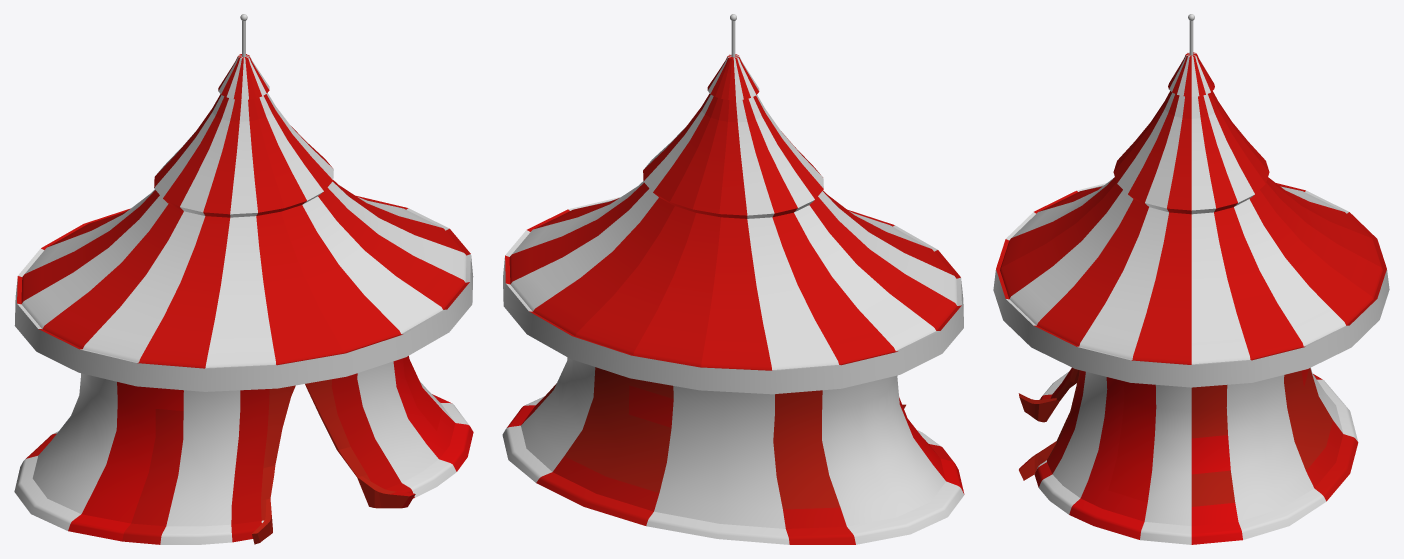
Rendered from mid02tent_lowpoly.fbx.
3 views of the same model, side by side, from view 1: azimuth 30°, elevation 25°; view 2: azimuth 150°, elevation 25°; view 3: azimuth 270°, elevation 25° (orthographic). The views are drawn at different scales.
Visible parts, largest first — view 1: pasted__tent_top3, tent_base8; view 2: pasted__tent_top3, tent_base8; view 3: pasted__tent_top3, tent_base8.
Boxes of the visible parts, left/top/right/bottom form: pasted__tent_top3: left=14, top=54, right=473, bottom=391; tent_base8: left=14, top=356, right=473, bottom=544; pasted__tent_top3: left=503, top=54, right=963, bottom=394; tent_base8: left=502, top=357, right=964, bottom=544; pasted__tent_top3: left=993, top=52, right=1389, bottom=387; tent_base8: left=1018, top=367, right=1358, bottom=544.
Bounding box in the file's own units: 25.23 × 25.33 × 21.12.
